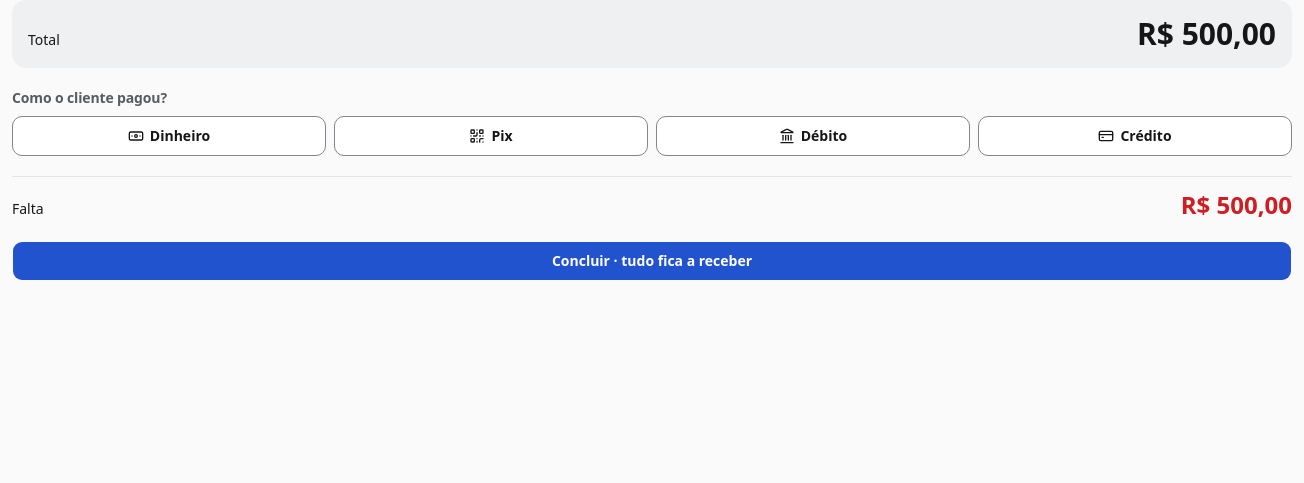
Test case: RecebimentoEtapa › apagar a data de vencimento não quebra a tela e bloqueia confirmar
Step 1. Click the button "Concluir · tudo fica a receber" → (652, 261), box top-left (12, 241), bottom-right (1292, 281)
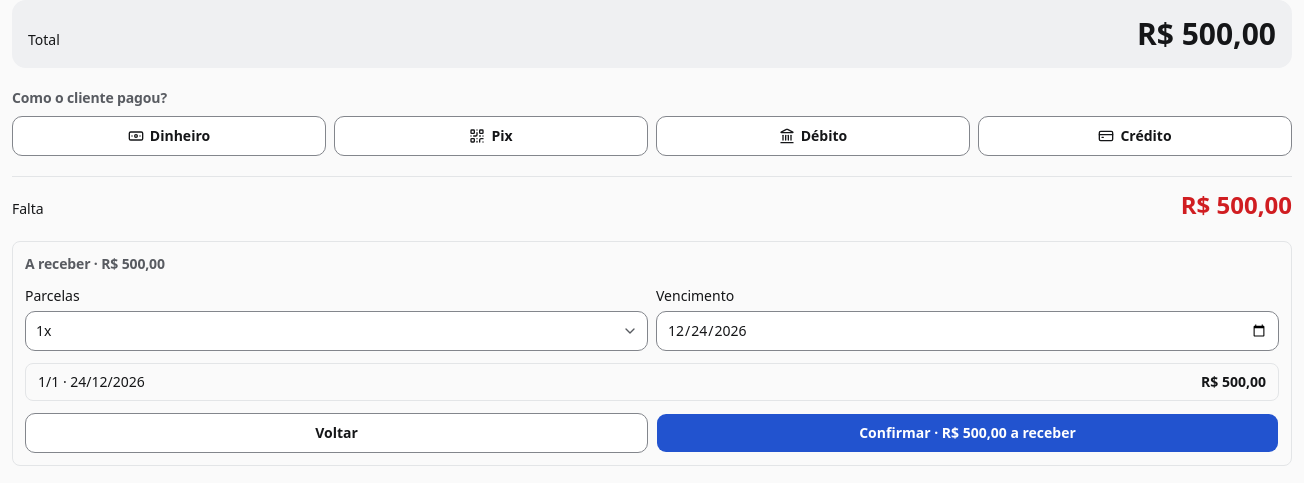
Step 2. Clear the date field labelled "Vencimento" → (968, 331), box top-left (656, 311), bottom-right (1279, 351)
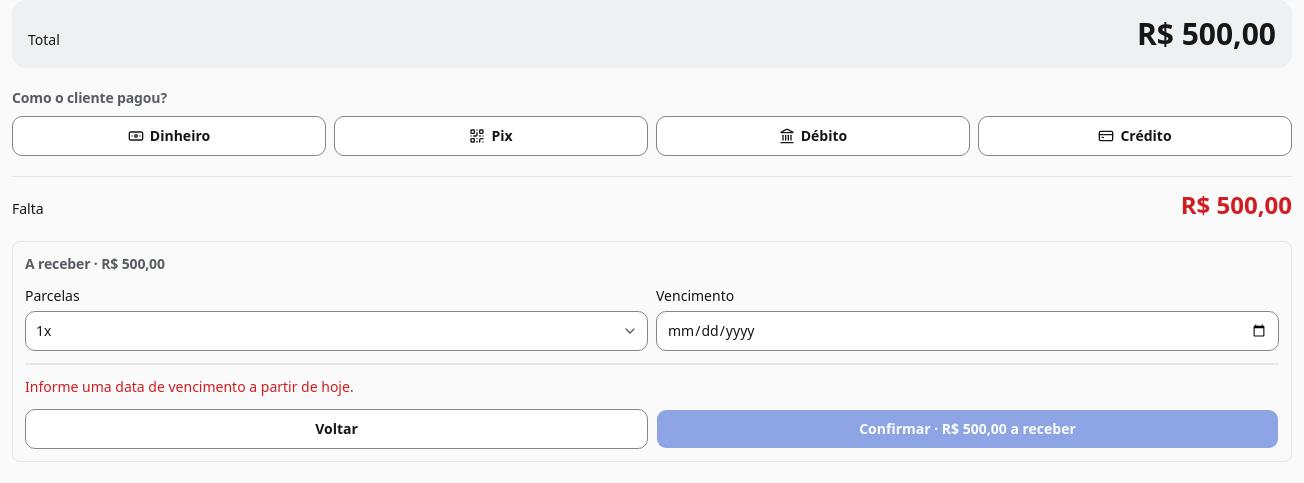
Expected: the button "Confirmar · R$ 500,00 a receber" is disabled, top-left (656, 409), bottom-right (1279, 449)
